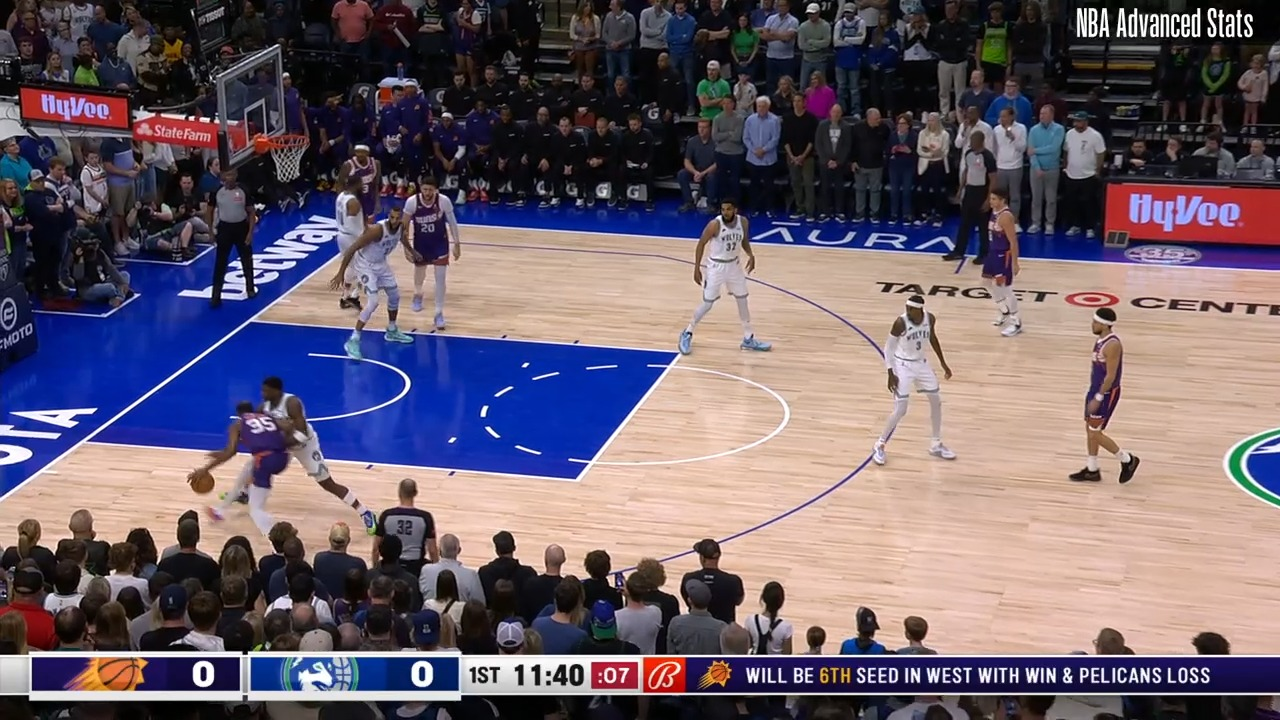basketball: (187, 466, 218, 497)
